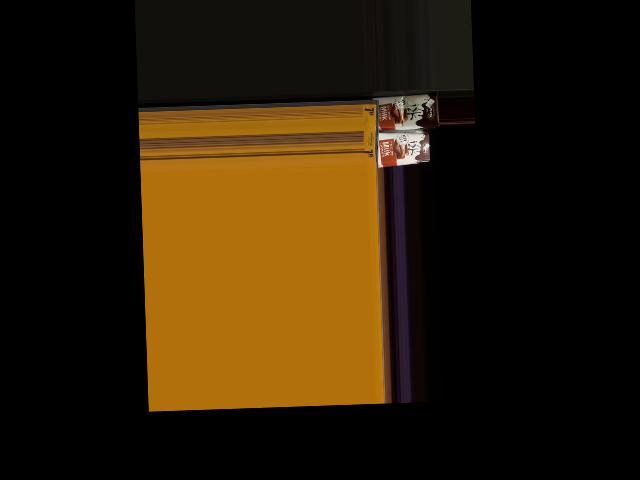chocolate: (370, 131, 432, 170)
